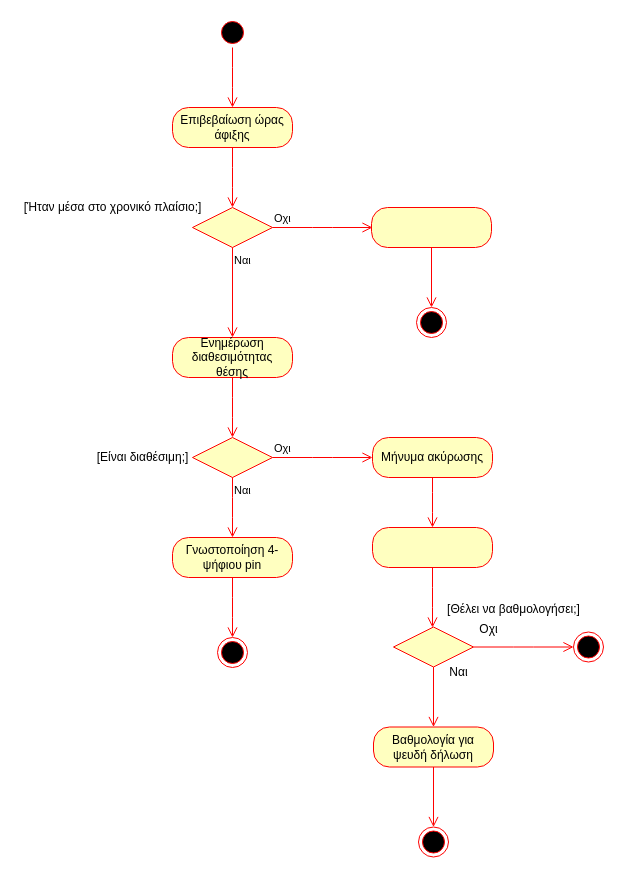
Some shapes in this 621 by 875 pixel diagram are drawn without their labels. The centre of each missing label's shape, as x and y in pixels:
"Ακύρωση ανταλλαγής" goes at (x=432, y=547).
"Επιβολή ποινής (2 μονάδες)" goes at (x=431, y=227).
